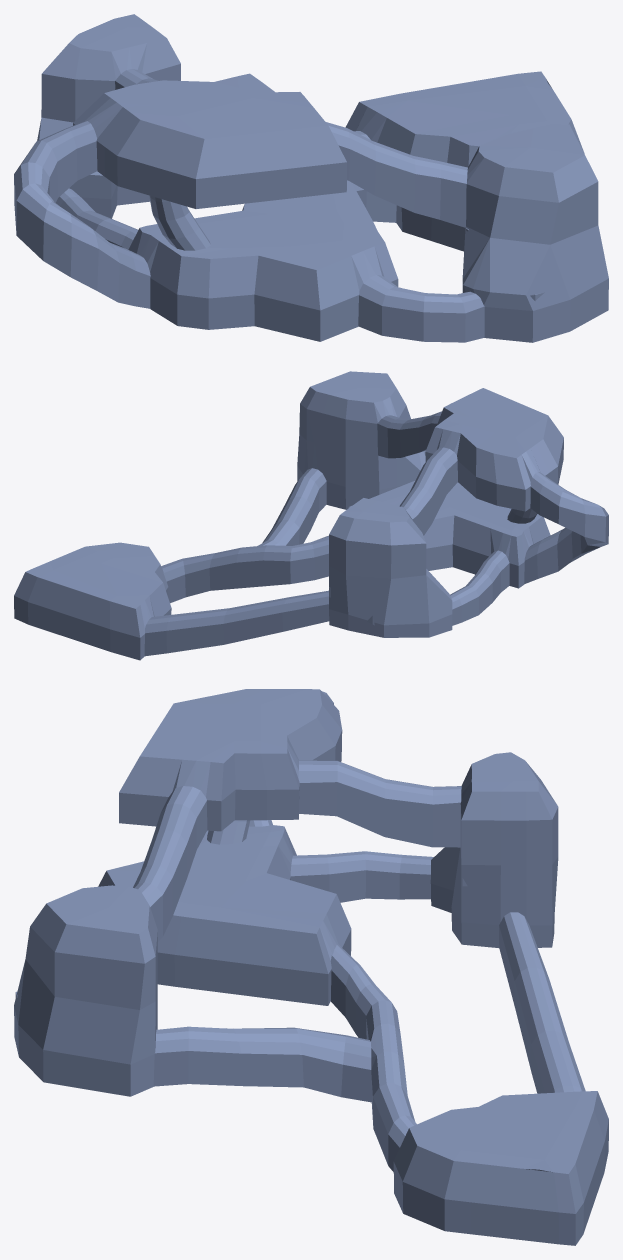
File: MapModel(SeperateRooms) (2).fbx
3 views of the same model, one above another, from view 1: azimuth 30°, elevation 25°; view 2: azimuth 150°, elevation 25°; view 3: azimuth 270°, elevation 25° (orthographic). The views are drawn at different scales.
Parts seen in each view (by area): view 1: MainRoom, BedRoom, VertRoom2, BackRoom, Halls.001, VertRoom1, Halls.005, Halls.004, Halls.006, Halls.002, Halls.003, Halls.007; view 2: VertRoom1, BackRoom, VertRoom2, BedRoom, Halls.006, MainRoom, Halls.008, Halls.001, Halls.007, Halls.003, Halls.005; view 3: BackRoom, VertRoom2, MainRoom, BedRoom, Halls.006, VertRoom1, Halls.007, Halls.008, Halls.005, Halls.003, Halls.002.
Part boxes in pixels (x1,y1,x2,y2): MainRoom: (128, 180, 398, 341); BedRoom: (73, 73, 346, 208); VertRoom2: (462, 124, 608, 342); BackRoom: (345, 71, 584, 167); Halls.001: (14, 121, 150, 308); VertRoom1: (37, 14, 180, 218); Halls.005: (326, 122, 467, 227); Halls.004: (358, 275, 484, 342); Halls.006: (352, 183, 465, 251); Halls.002: (149, 195, 210, 250); Halls.003: (56, 188, 138, 249); Halls.007: (115, 69, 159, 89); VertRoom1: (329, 498, 452, 637); BackRoom: (14, 542, 171, 660); VertRoom2: (297, 371, 425, 509); BedRoom: (425, 388, 563, 511); Halls.006: (161, 468, 328, 603); MainRoom: (347, 481, 550, 588); Halls.008: (144, 590, 329, 656); Halls.001: (524, 472, 608, 583); Halls.007: (399, 447, 457, 535); Halls.003: (450, 550, 509, 625); Halls.005: (377, 411, 441, 458); BackRoom: (393, 1091, 608, 1245); VertRoom2: (14, 885, 157, 1096); MainRoom: (98, 825, 351, 1005); BedRoom: (119, 689, 342, 831); Halls.006: (153, 944, 416, 1171); VertRoom1: (430, 752, 558, 947); Halls.007: (298, 760, 461, 847); Halls.008: (499, 912, 585, 1093); Halls.005: (133, 786, 207, 942); Halls.003: (290, 851, 433, 902); Halls.002: (207, 820, 250, 844).
Size of the model in its own units: 10212 by 7650 by 3897.
